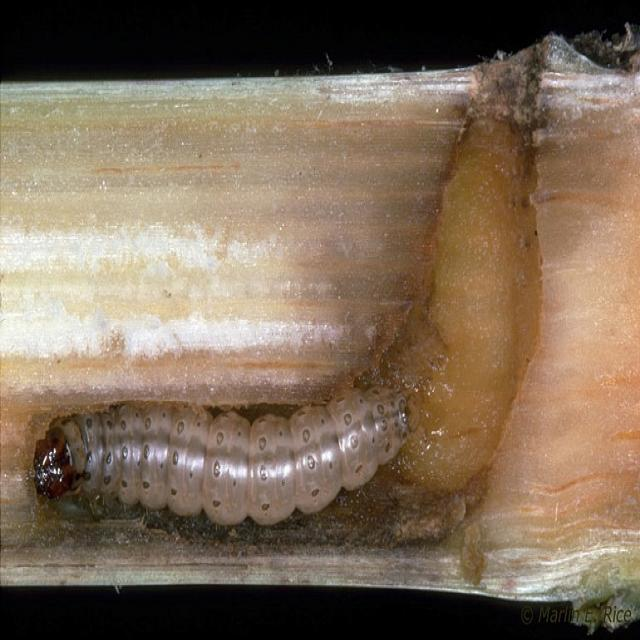cornborer-Larva-: (14, 359, 436, 526)
